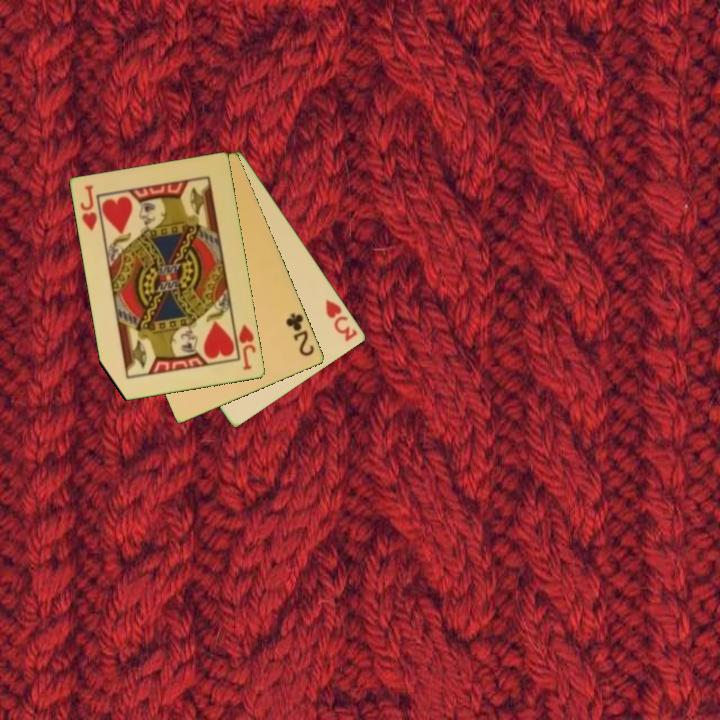2c: (283, 309, 317, 359)
3h: (322, 296, 361, 344)
Jh: (230, 319, 259, 373), (77, 182, 100, 234)
